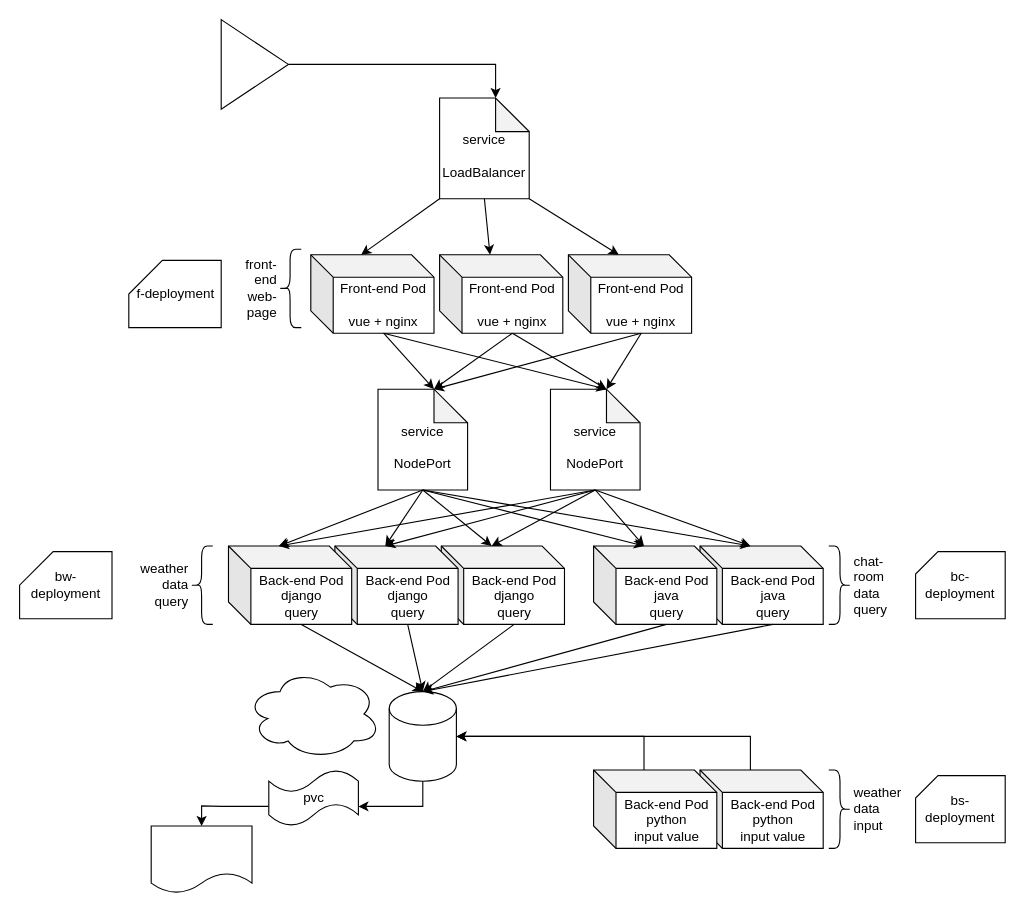
This 1025x913 diagram has some shape labels left out. Each missing label, with the centre of its shape:
client: point (254, 63)
database: point (422, 735)
pv: point (201, 859)
rds database: point (313, 713)
